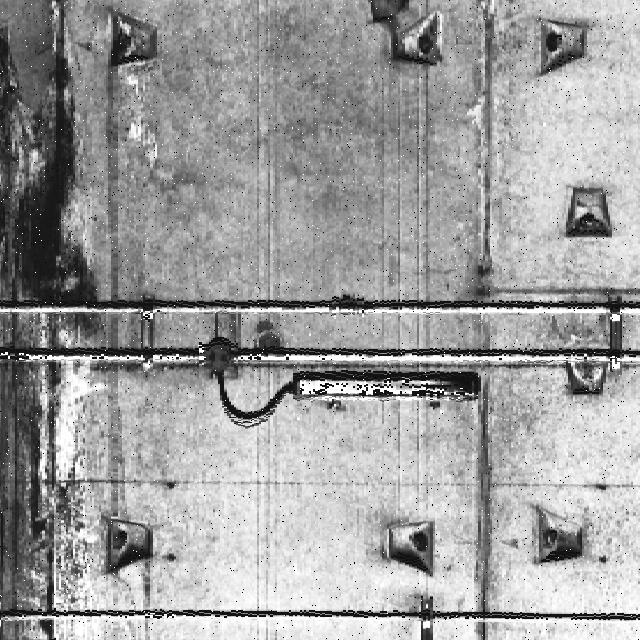leakage: (1, 33, 97, 639)
